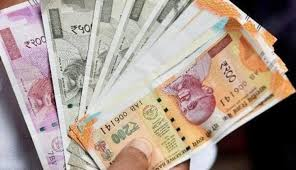twoHundred: (90, 53, 267, 151)
